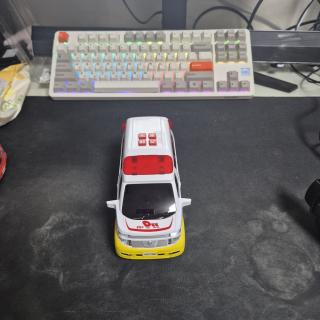Ambulance: (107, 117, 191, 259)
